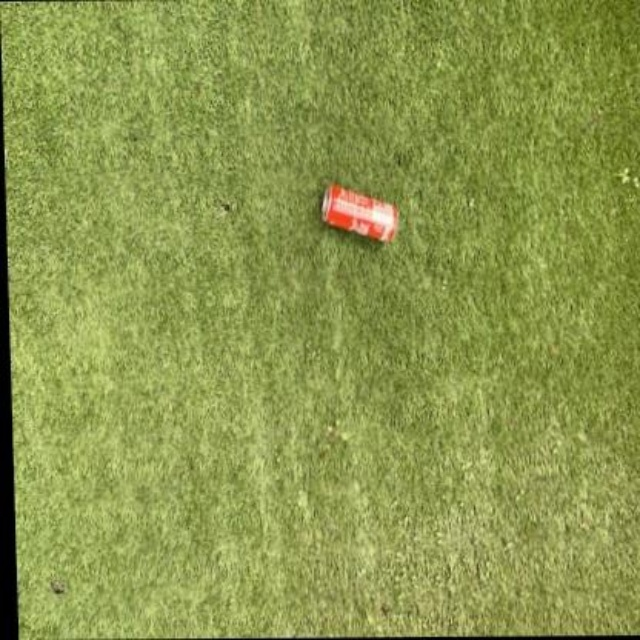trash: (322, 183, 397, 242)
